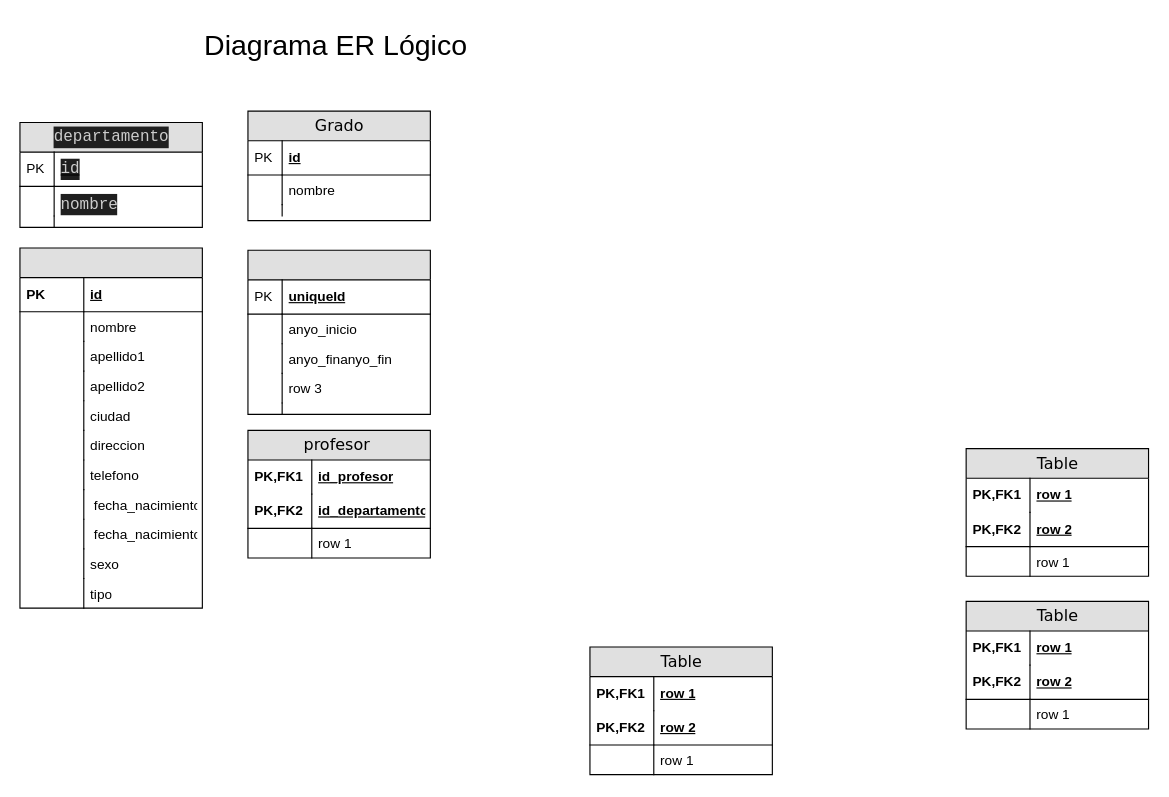
The diagram is 1169 pixels wide and 797 high, and some of its shapes have lost their labels. Each missing label, with the box of its shape:
curso_escolar: (247, 249, 430, 414)
persona: (19, 247, 202, 608)
